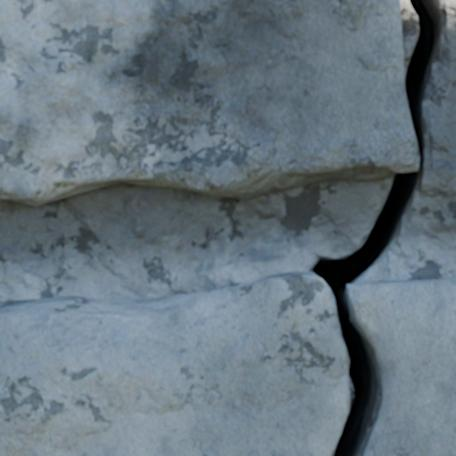brick: (0, 0, 418, 204)
broken_brick: (0, 270, 347, 455), (348, 278, 455, 455)
crack: (310, 0, 455, 455)
